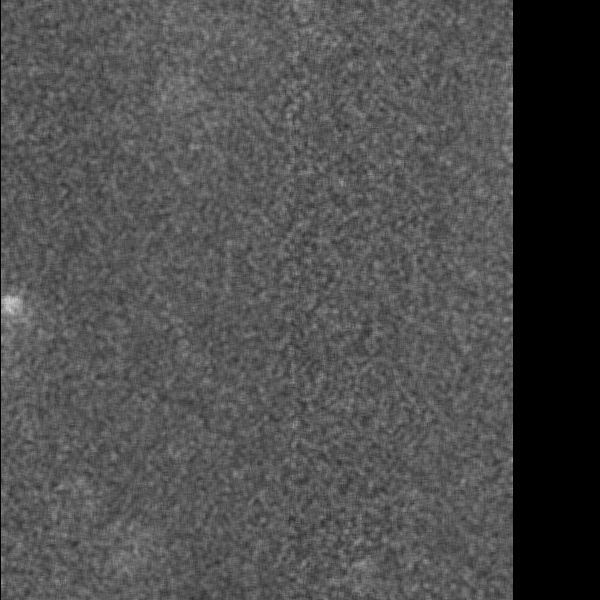spark: (61, 471, 105, 546), (113, 232, 168, 248)
